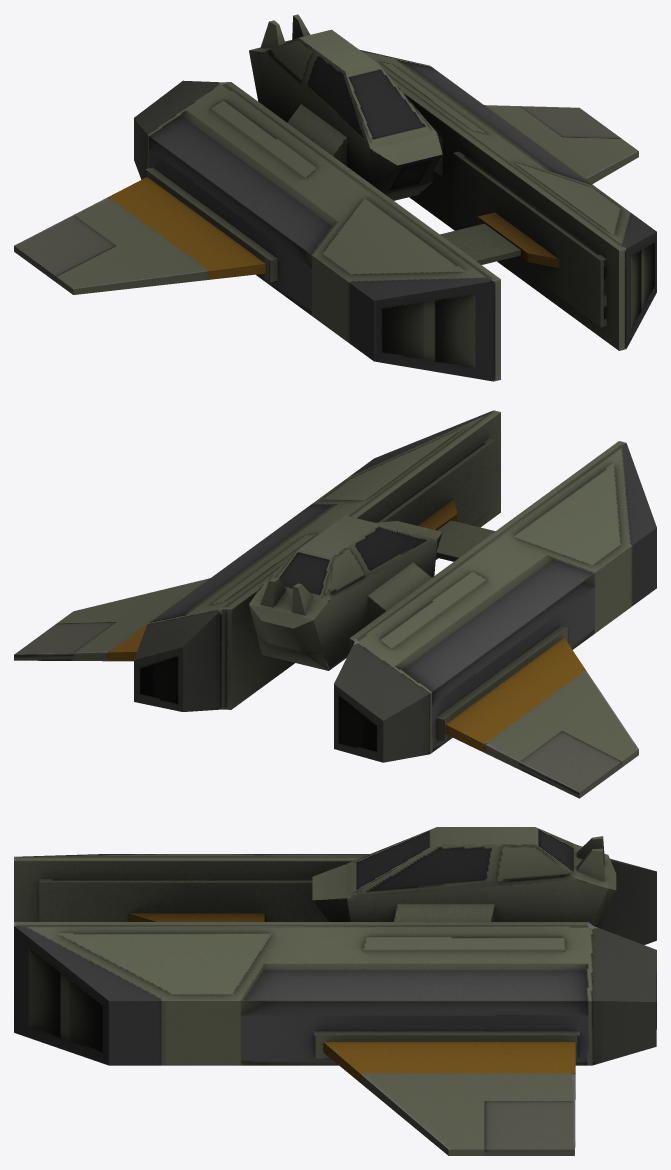
3 views of the same model, one above another, from view 1: azimuth 30°, elevation 25°; view 2: azimuth 150°, elevation 25°; view 3: azimuth 270°, elevation 25° (orthographic). The views are drawn at different scales.
Parts seen in each view (by area): view 1: FighterLow; view 2: FighterLow; view 3: FighterLow.
Boxes of the visible parts, box(x1,y1,x2,y2) form: FighterLow: box(14, 14, 656, 381); FighterLow: box(14, 410, 656, 798); FighterLow: box(14, 827, 656, 1155).
Bounding box in the file's own units: 6.87 × 1.89 × 6.35.
Materials: 1 (1 with a texture image).
